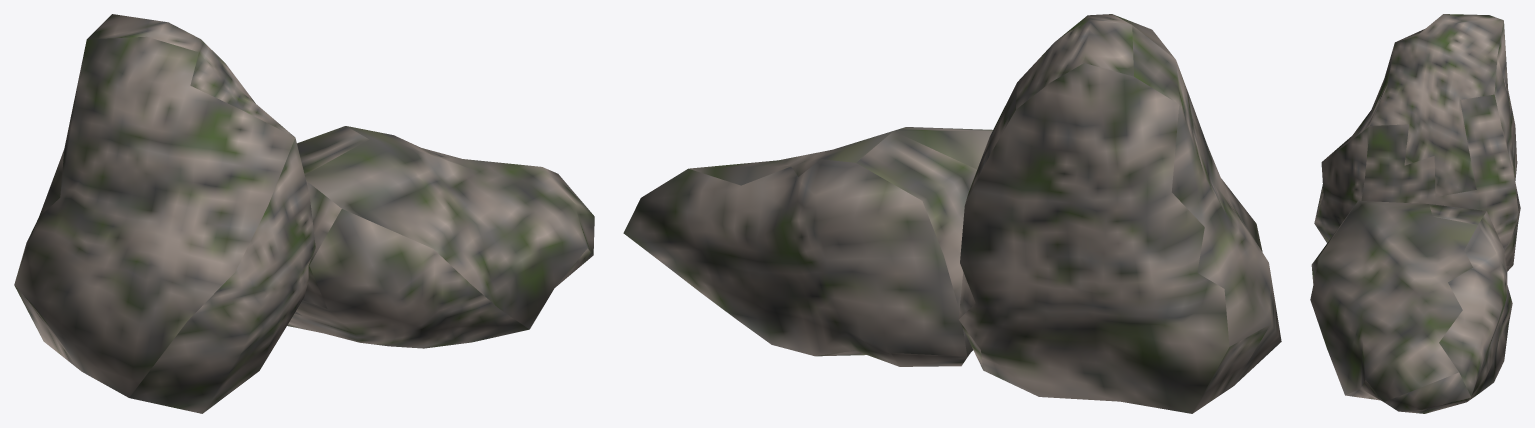
File: PedraMediaVarB.mtl.obj
3 renders of one model, left to right at view 1: azimuth 30°, elevation 25°; view 2: azimuth 150°, elevation 25°; view 3: azimuth 270°, elevation 25°, orthographic. The views are drawn at different scales.
Parts seen in each view (by area): view 1: rock.001; view 2: rock.001; view 3: rock.001.
Boxes of the visible parts, x1,y1,x2,y2 form: rock.001: [14, 14, 594, 413]; rock.001: [623, 14, 1281, 413]; rock.001: [1310, 14, 1520, 413].
Size of the model in its own units: 2.57 by 1.53 by 1.08.
